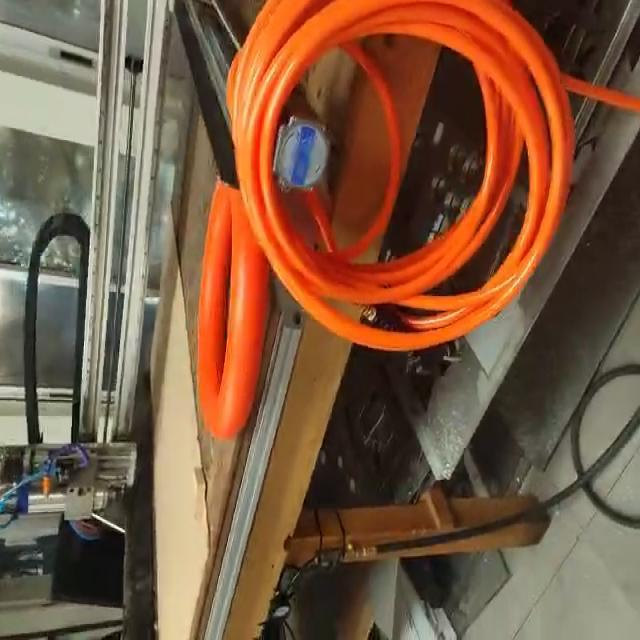note: (198, 184, 264, 443)
